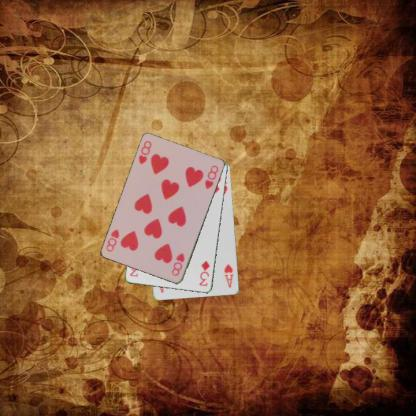3d: (196, 258, 211, 287)
8h: (169, 250, 186, 278), (136, 138, 153, 166)
Ah: (222, 262, 235, 289)
